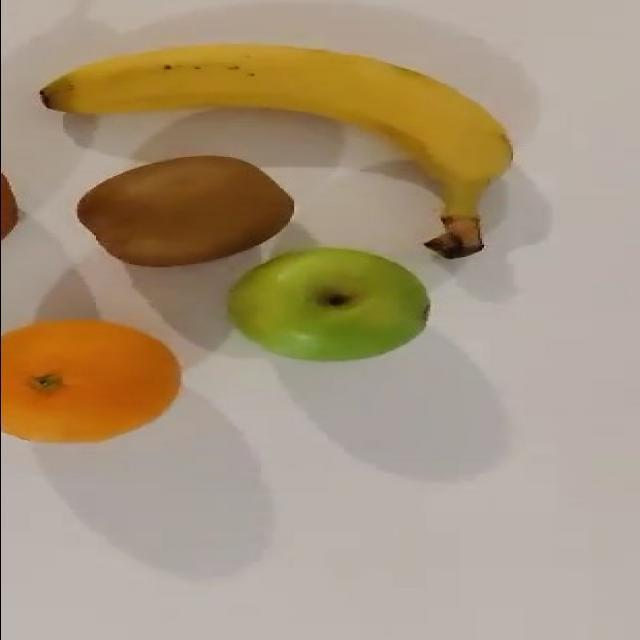Apple: (227, 246, 430, 361)
Banana: (38, 41, 513, 259)
Orange: (0, 317, 181, 444)
